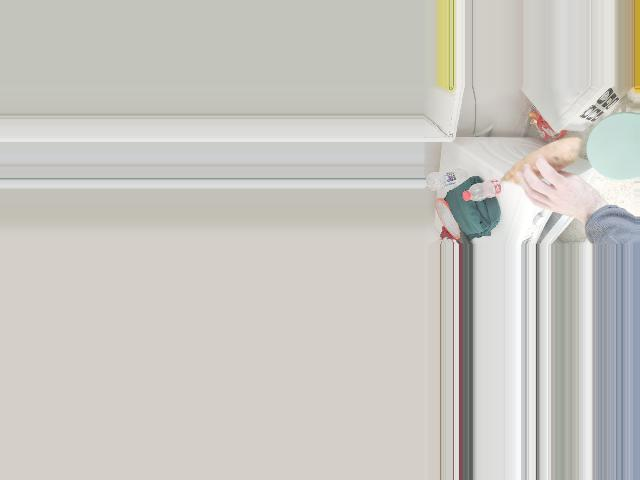sweet_potato: (506, 139, 568, 197)
